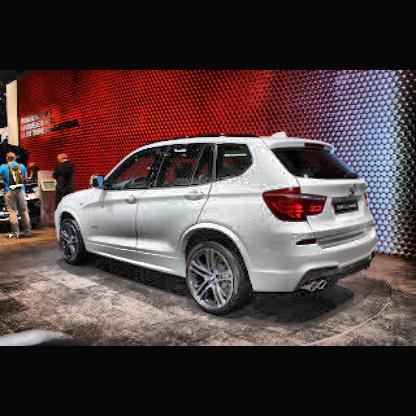BMW X3 SUV 2012: (56, 131, 381, 319)
